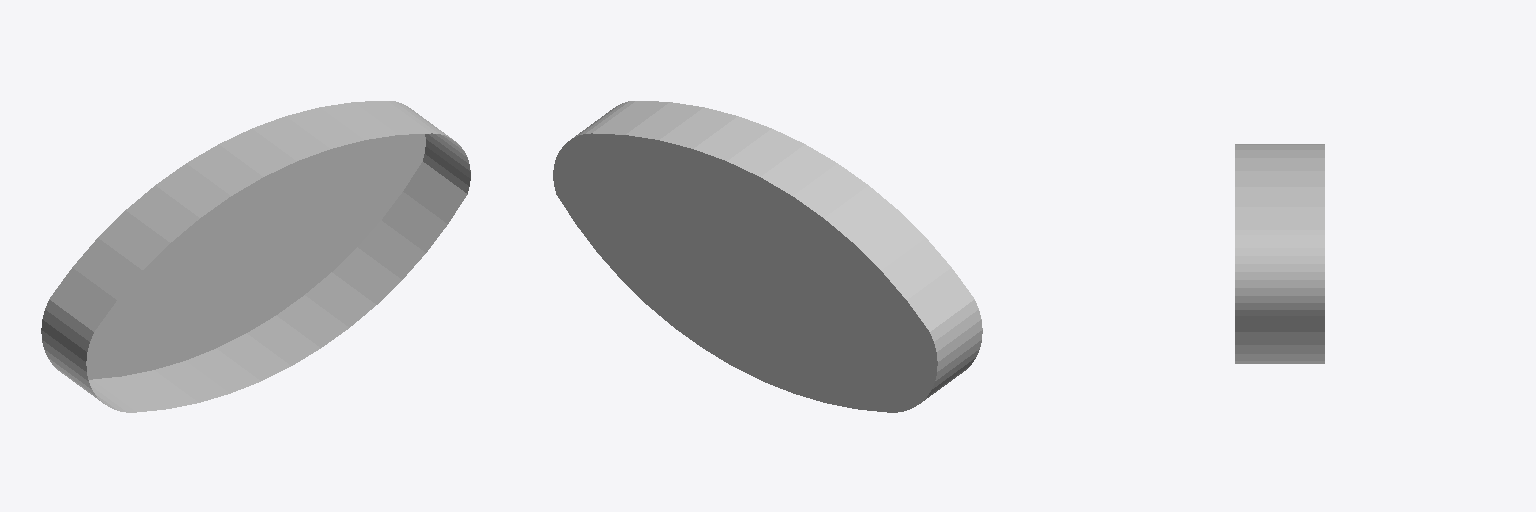
File: original-17.obj
The picture shows the model from 3 angles: view 1: azimuth 30°, elevation 25°; view 2: azimuth 150°, elevation 25°; view 3: azimuth 270°, elevation 25°; orthographic projection.
Visible parts, largest first — view 1: #ID107; view 2: #ID107; view 3: #ID107.
Part boxes in pixels (bbox=[...]): #ID107: bbox=[41, 101, 470, 412]; #ID107: bbox=[553, 101, 982, 412]; #ID107: bbox=[1235, 144, 1324, 363].
Bounding box in the file's own units: 0.1628 × 0.09 × 0.033.